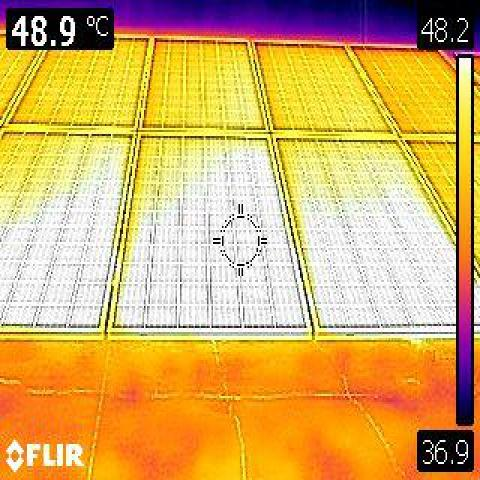fault: (226, 146, 268, 194)
